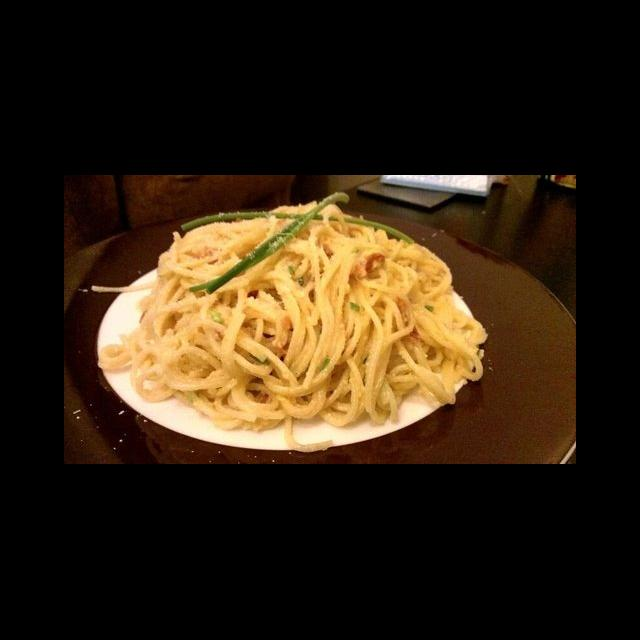noodles: (100, 202, 488, 434)
